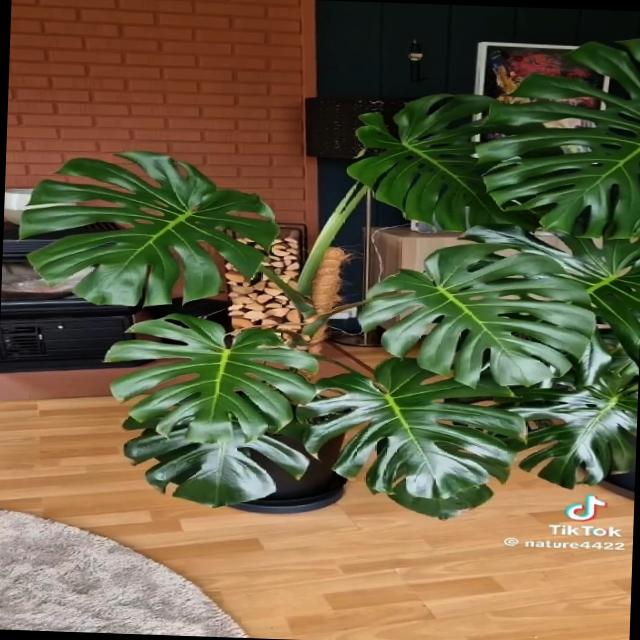roslina_zdrowa: (17, 38, 640, 519)
